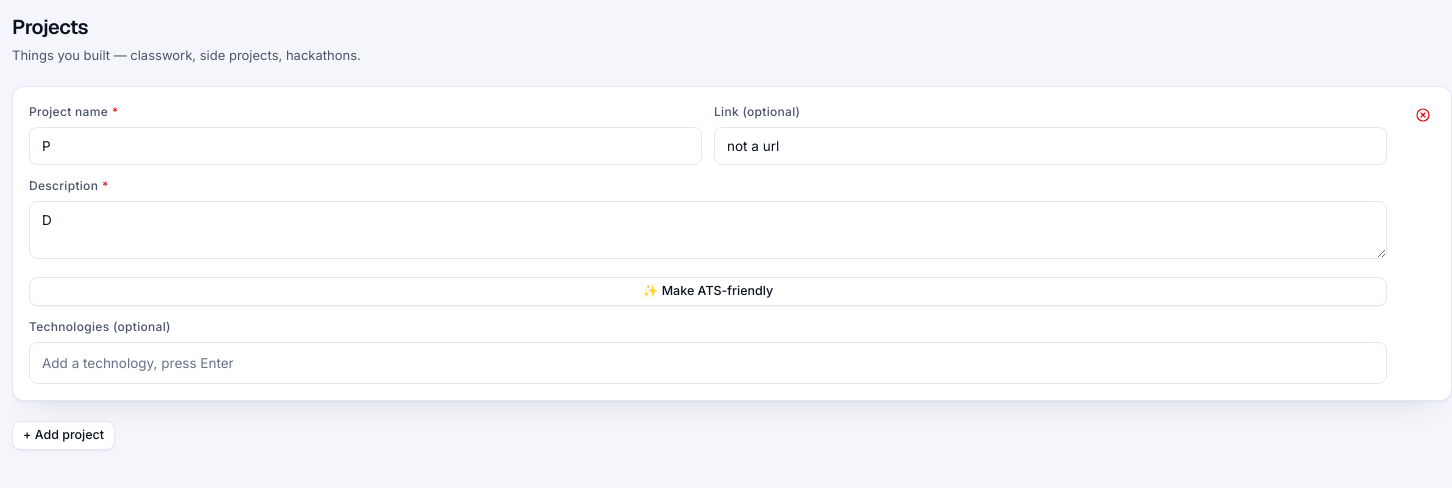
it: ProjectsForm › flags a project link that is not a URL
Click the field with placeholder "github.com/you/project": (1050, 146) [714,126,1387,165]
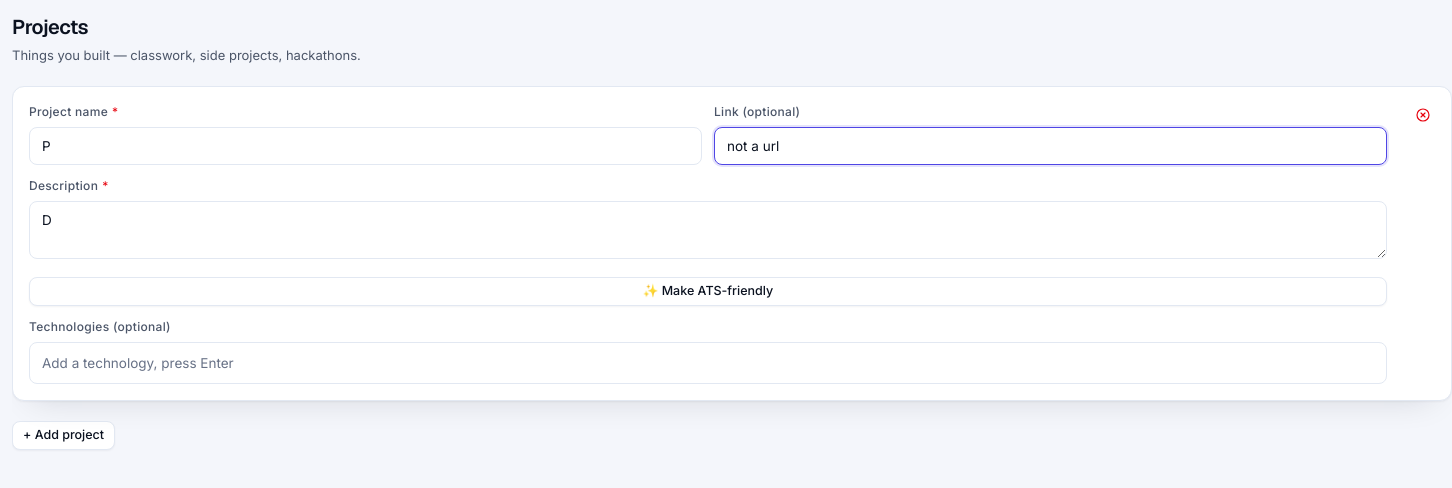
Press Tab
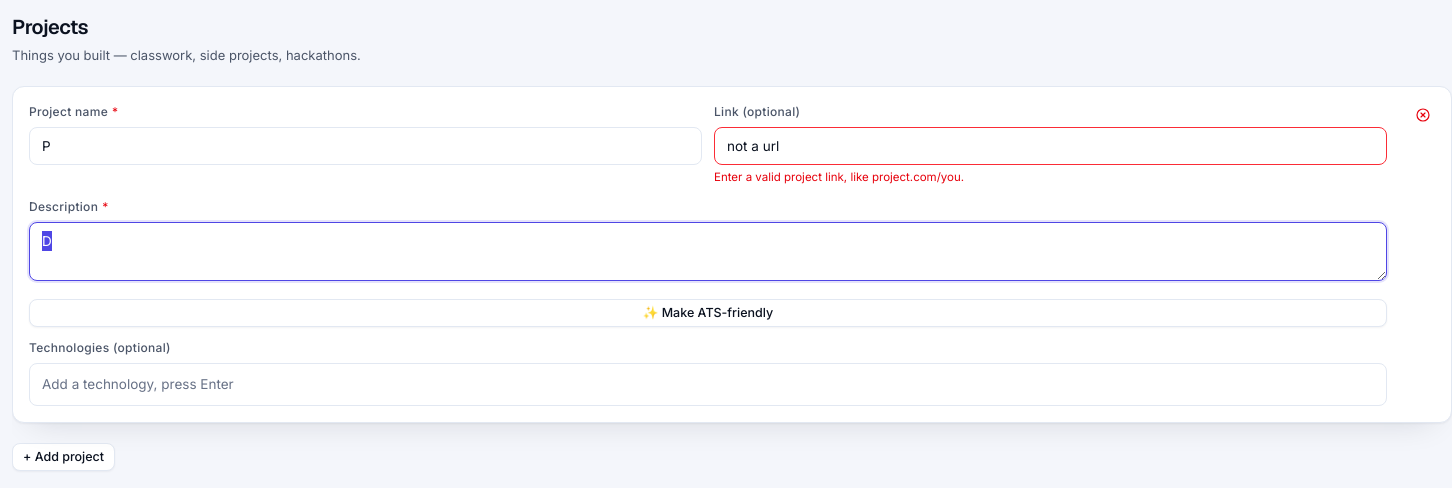
Expected: the text "Enter a valid project link, like project.com/you." is shown, [714,170,964,184]
